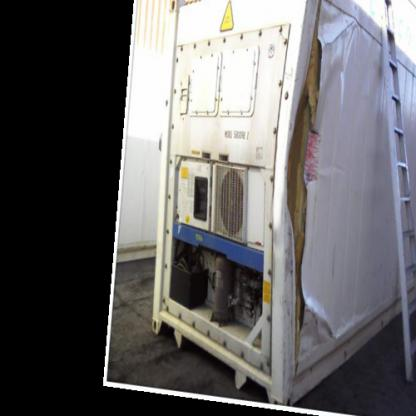Damage: (268, 6, 354, 362)
